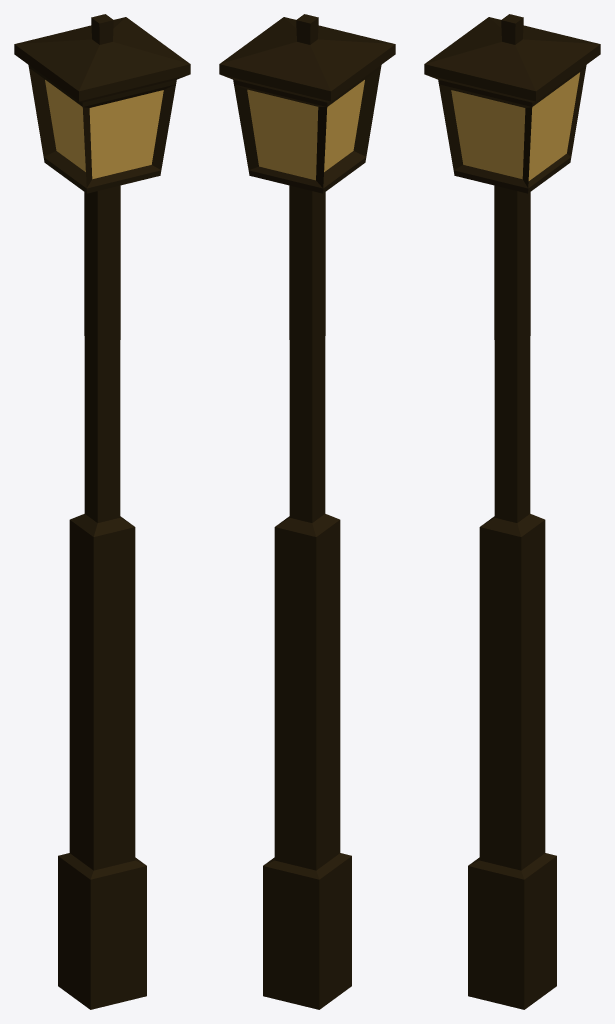
The model's file is Lamp.fbx.
3 renders of one model, left to right at view 1: azimuth 30°, elevation 25°; view 2: azimuth 150°, elevation 25°; view 3: azimuth 330°, elevation 25°, orthographic.
Visible parts, largest first — view 1: LampPost; view 2: LampPost; view 3: LampPost.
Boxes of the visible parts, bbox=[...] form: LampPost: bbox=[14, 14, 190, 1009]; LampPost: bbox=[219, 14, 395, 1009]; LampPost: bbox=[424, 14, 600, 1009].
Size of the model in its own units: 1.97 by 16.42 by 1.97.
